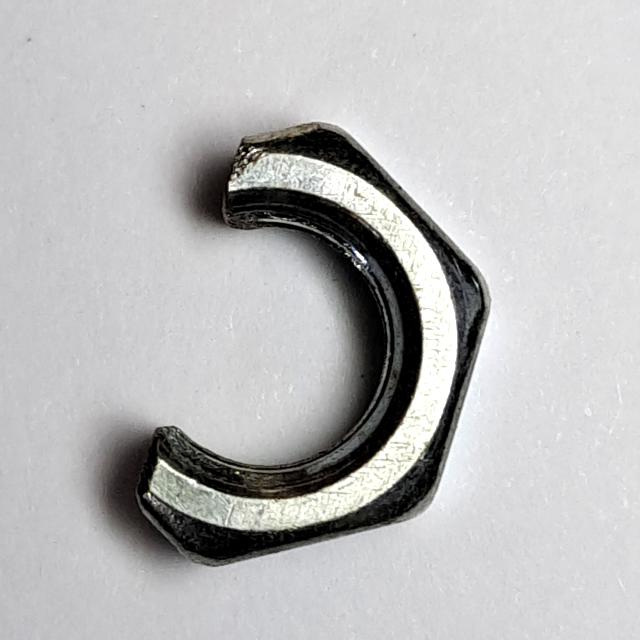Fracture: (121, 96, 505, 581)
